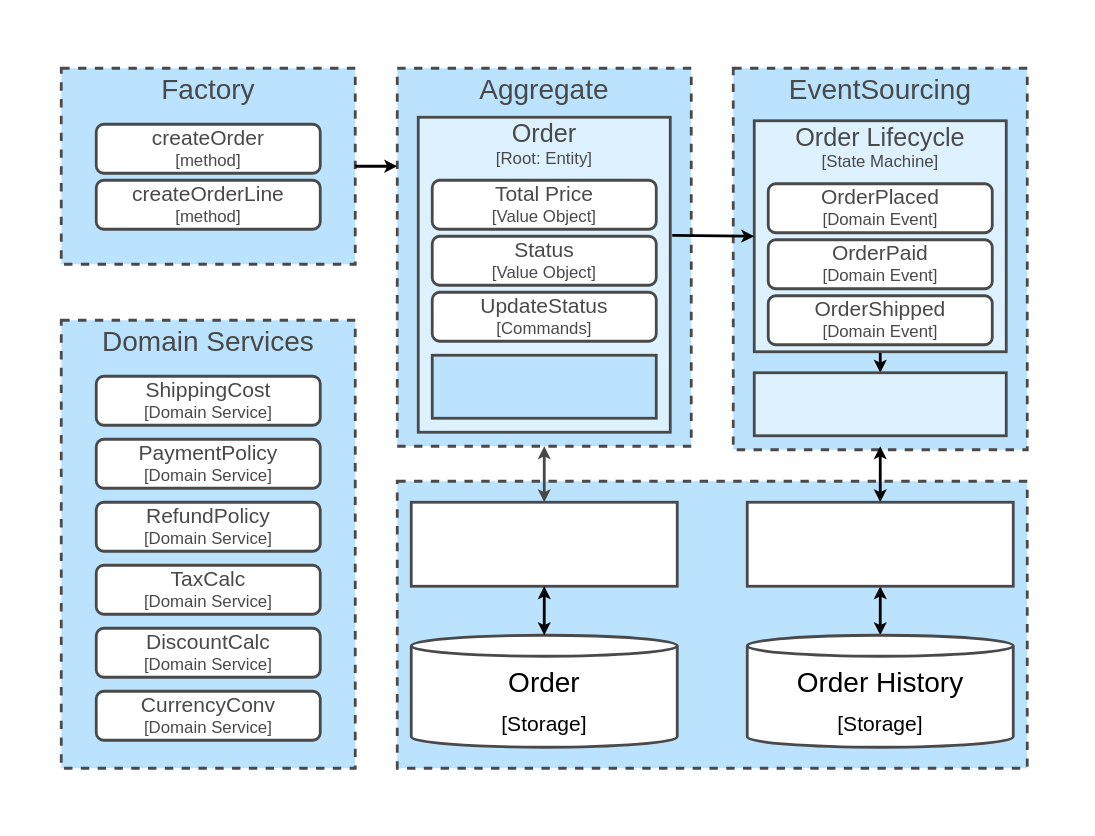
Some shapes in this 1095 by 836 pixel diagram are drawn without their labels. Here are the shapes that lost their labels. From the top down, the centre of each, then its label:
At point 543,386: "OrderLines [Array: Entities]".
At point 879,404: "Order History [Entity]".
At point 544,543: "Order [Repository]".
At point 880,543: "Order History [Repository]".
